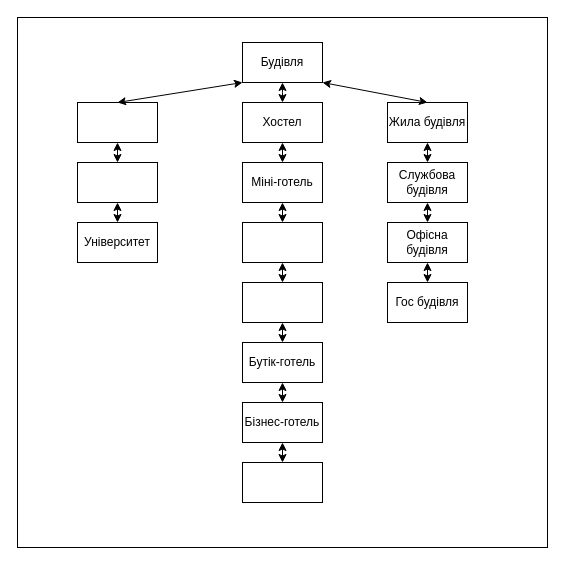
The diagram is 565 pixels wide and 565 high, and some of its shapes have lost their labels. Here are the shapes that lost their labels. From the top down, the centre of each, then its label:
At point (117, 122): "Учбова будівля".
At point (117, 182): "Школа".
At point (282, 242): "Міський готель".
At point (282, 302): "Апарт-готель".
At point (282, 482): "Готель-курорт".
